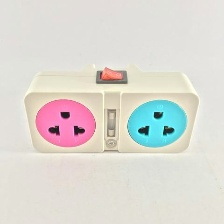three_eye_plug: (20, 61, 203, 158)
